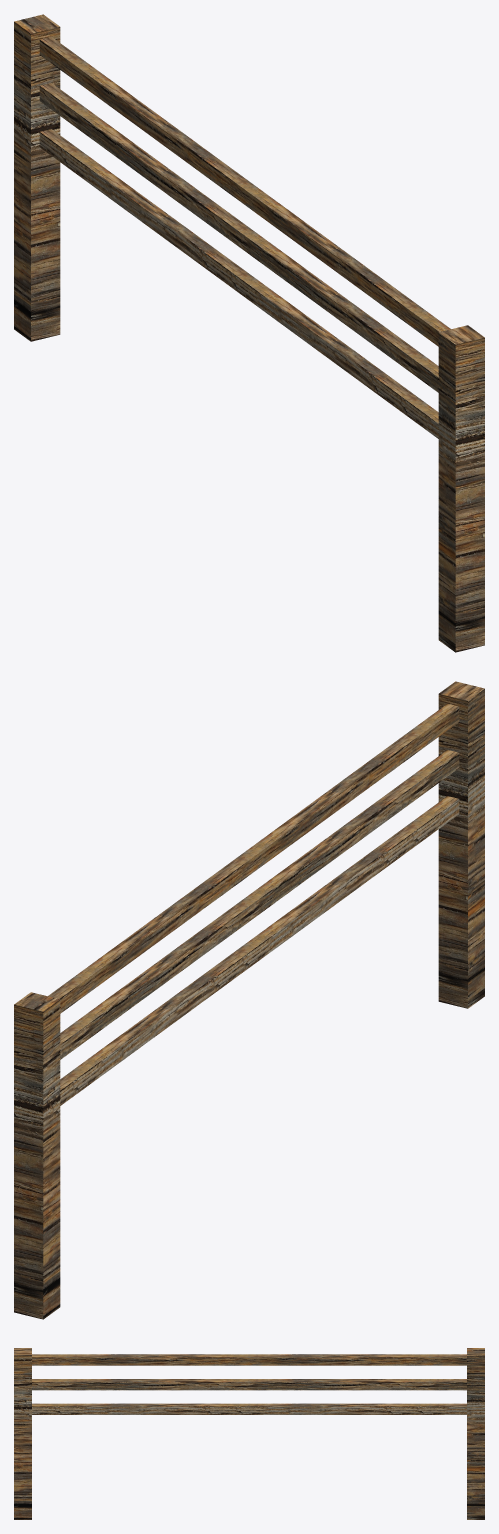
File: fence_001.fbx
3 renders of one model, top to bottom at view 1: azimuth 30°, elevation 25°; view 2: azimuth 150°, elevation 25°; view 3: azimuth 270°, elevation 25°, orthographic. The views are drawn at different scales.
Parts seen in each view (by area): view 1: fenceMesh; view 2: fenceMesh; view 3: fenceMesh.
Boxes of the visible parts, left/top/right/bottom form: fenceMesh: left=14, top=14, right=484, bottom=652; fenceMesh: left=14, top=681, right=484, bottom=1319; fenceMesh: left=14, top=1348, right=484, bottom=1519.
Bounding box in the file's own units: 20 × 200 × 520.
Materials: 1 (1 with a texture image).
